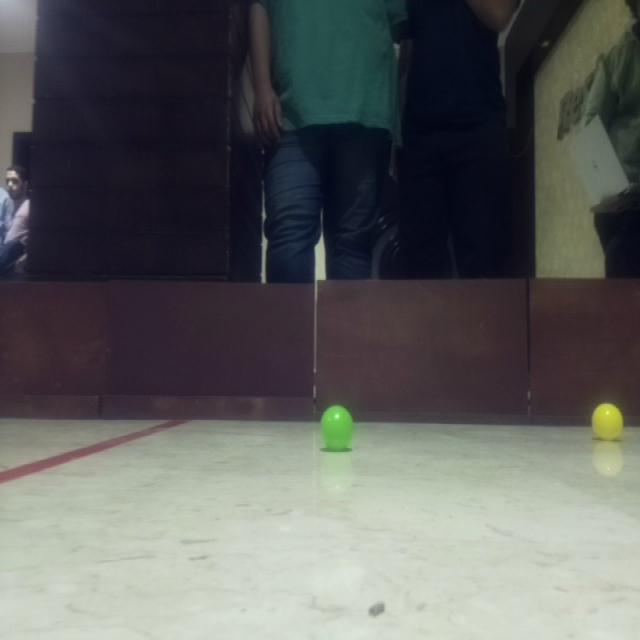ball: (317, 400, 357, 454), (589, 401, 627, 443)
